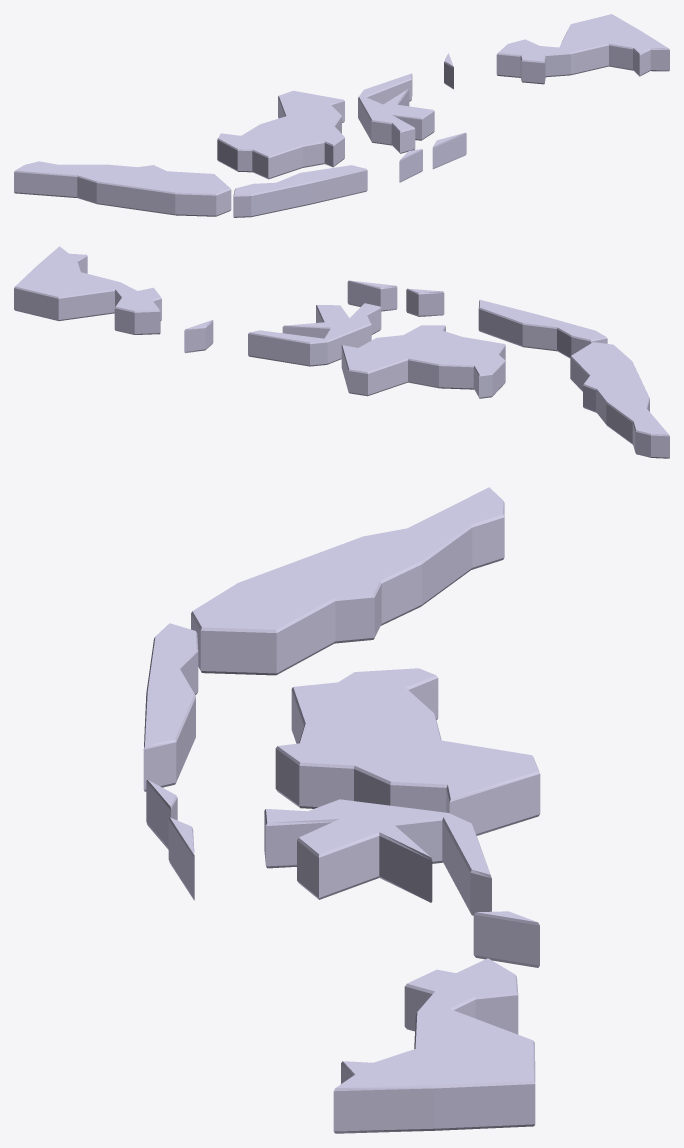
Rendered from IDN.glb.
The picture shows the model from 3 angles, top to bottom: view 1: azimuth 30°, elevation 25°; view 2: azimuth 150°, elevation 25°; view 3: azimuth 270°, elevation 25°; orthographic projection. The views are drawn at different scales.
Size of the model in its own units: 1.92 by 0.068 by 0.535.
